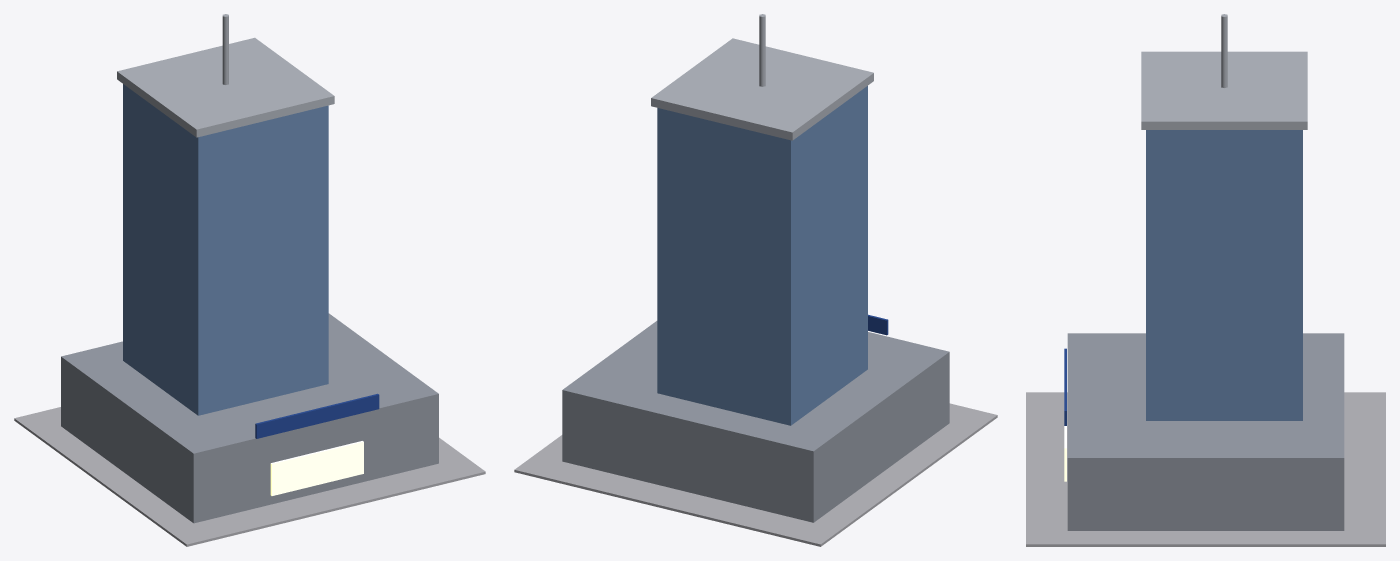
File: hq_3_corporate_tower.glb
3 views of the same model, side by side, from view 1: azimuth 30°, elevation 25°; view 2: azimuth 150°, elevation 25°; view 3: azimuth 270°, elevation 25° (orthographic). The views are drawn at different scales.
Parts seen in each view (by area): view 1: Tower, Podium, Crown, Plaza, Entrance, SignBoard; view 2: Tower, Podium, Crown, Plaza; view 3: Tower, Podium, Plaza, Crown, Mast.
Boxes of the visible parts, x1,y1,x2,y2 form: Tower: [123, 84, 328, 415]; Podium: [61, 313, 438, 523]; Crown: [117, 37, 334, 137]; Plaza: [14, 407, 485, 546]; Entrance: [270, 441, 363, 495]; SignBoard: [255, 393, 379, 438]; Tower: [657, 86, 867, 425]; Podium: [562, 321, 949, 522]; Crown: [651, 38, 873, 140]; Plaza: [514, 403, 997, 546]; Tower: [1146, 130, 1302, 420]; Podium: [1067, 333, 1344, 530]; Plaza: [1026, 392, 1385, 546]; Crown: [1141, 51, 1307, 129]; Mast: [1221, 14, 1227, 87].
Bounding box in the file's own units: 3.9 × 5.35 × 3.9.
